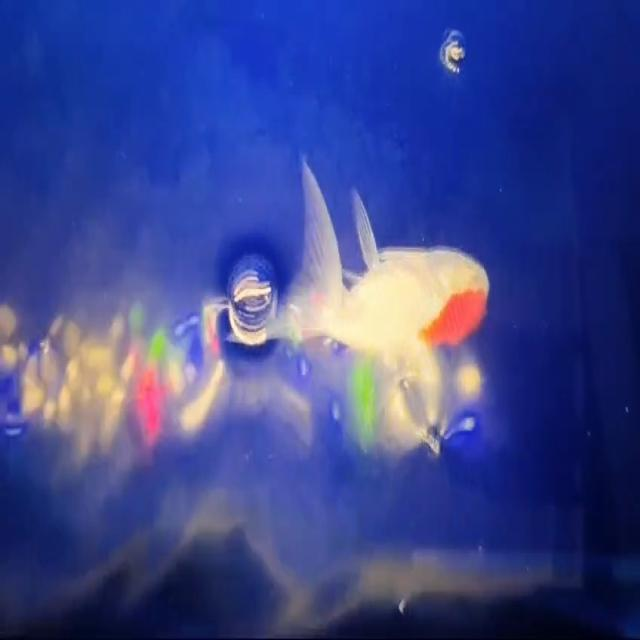fish: (273, 158, 493, 392)
